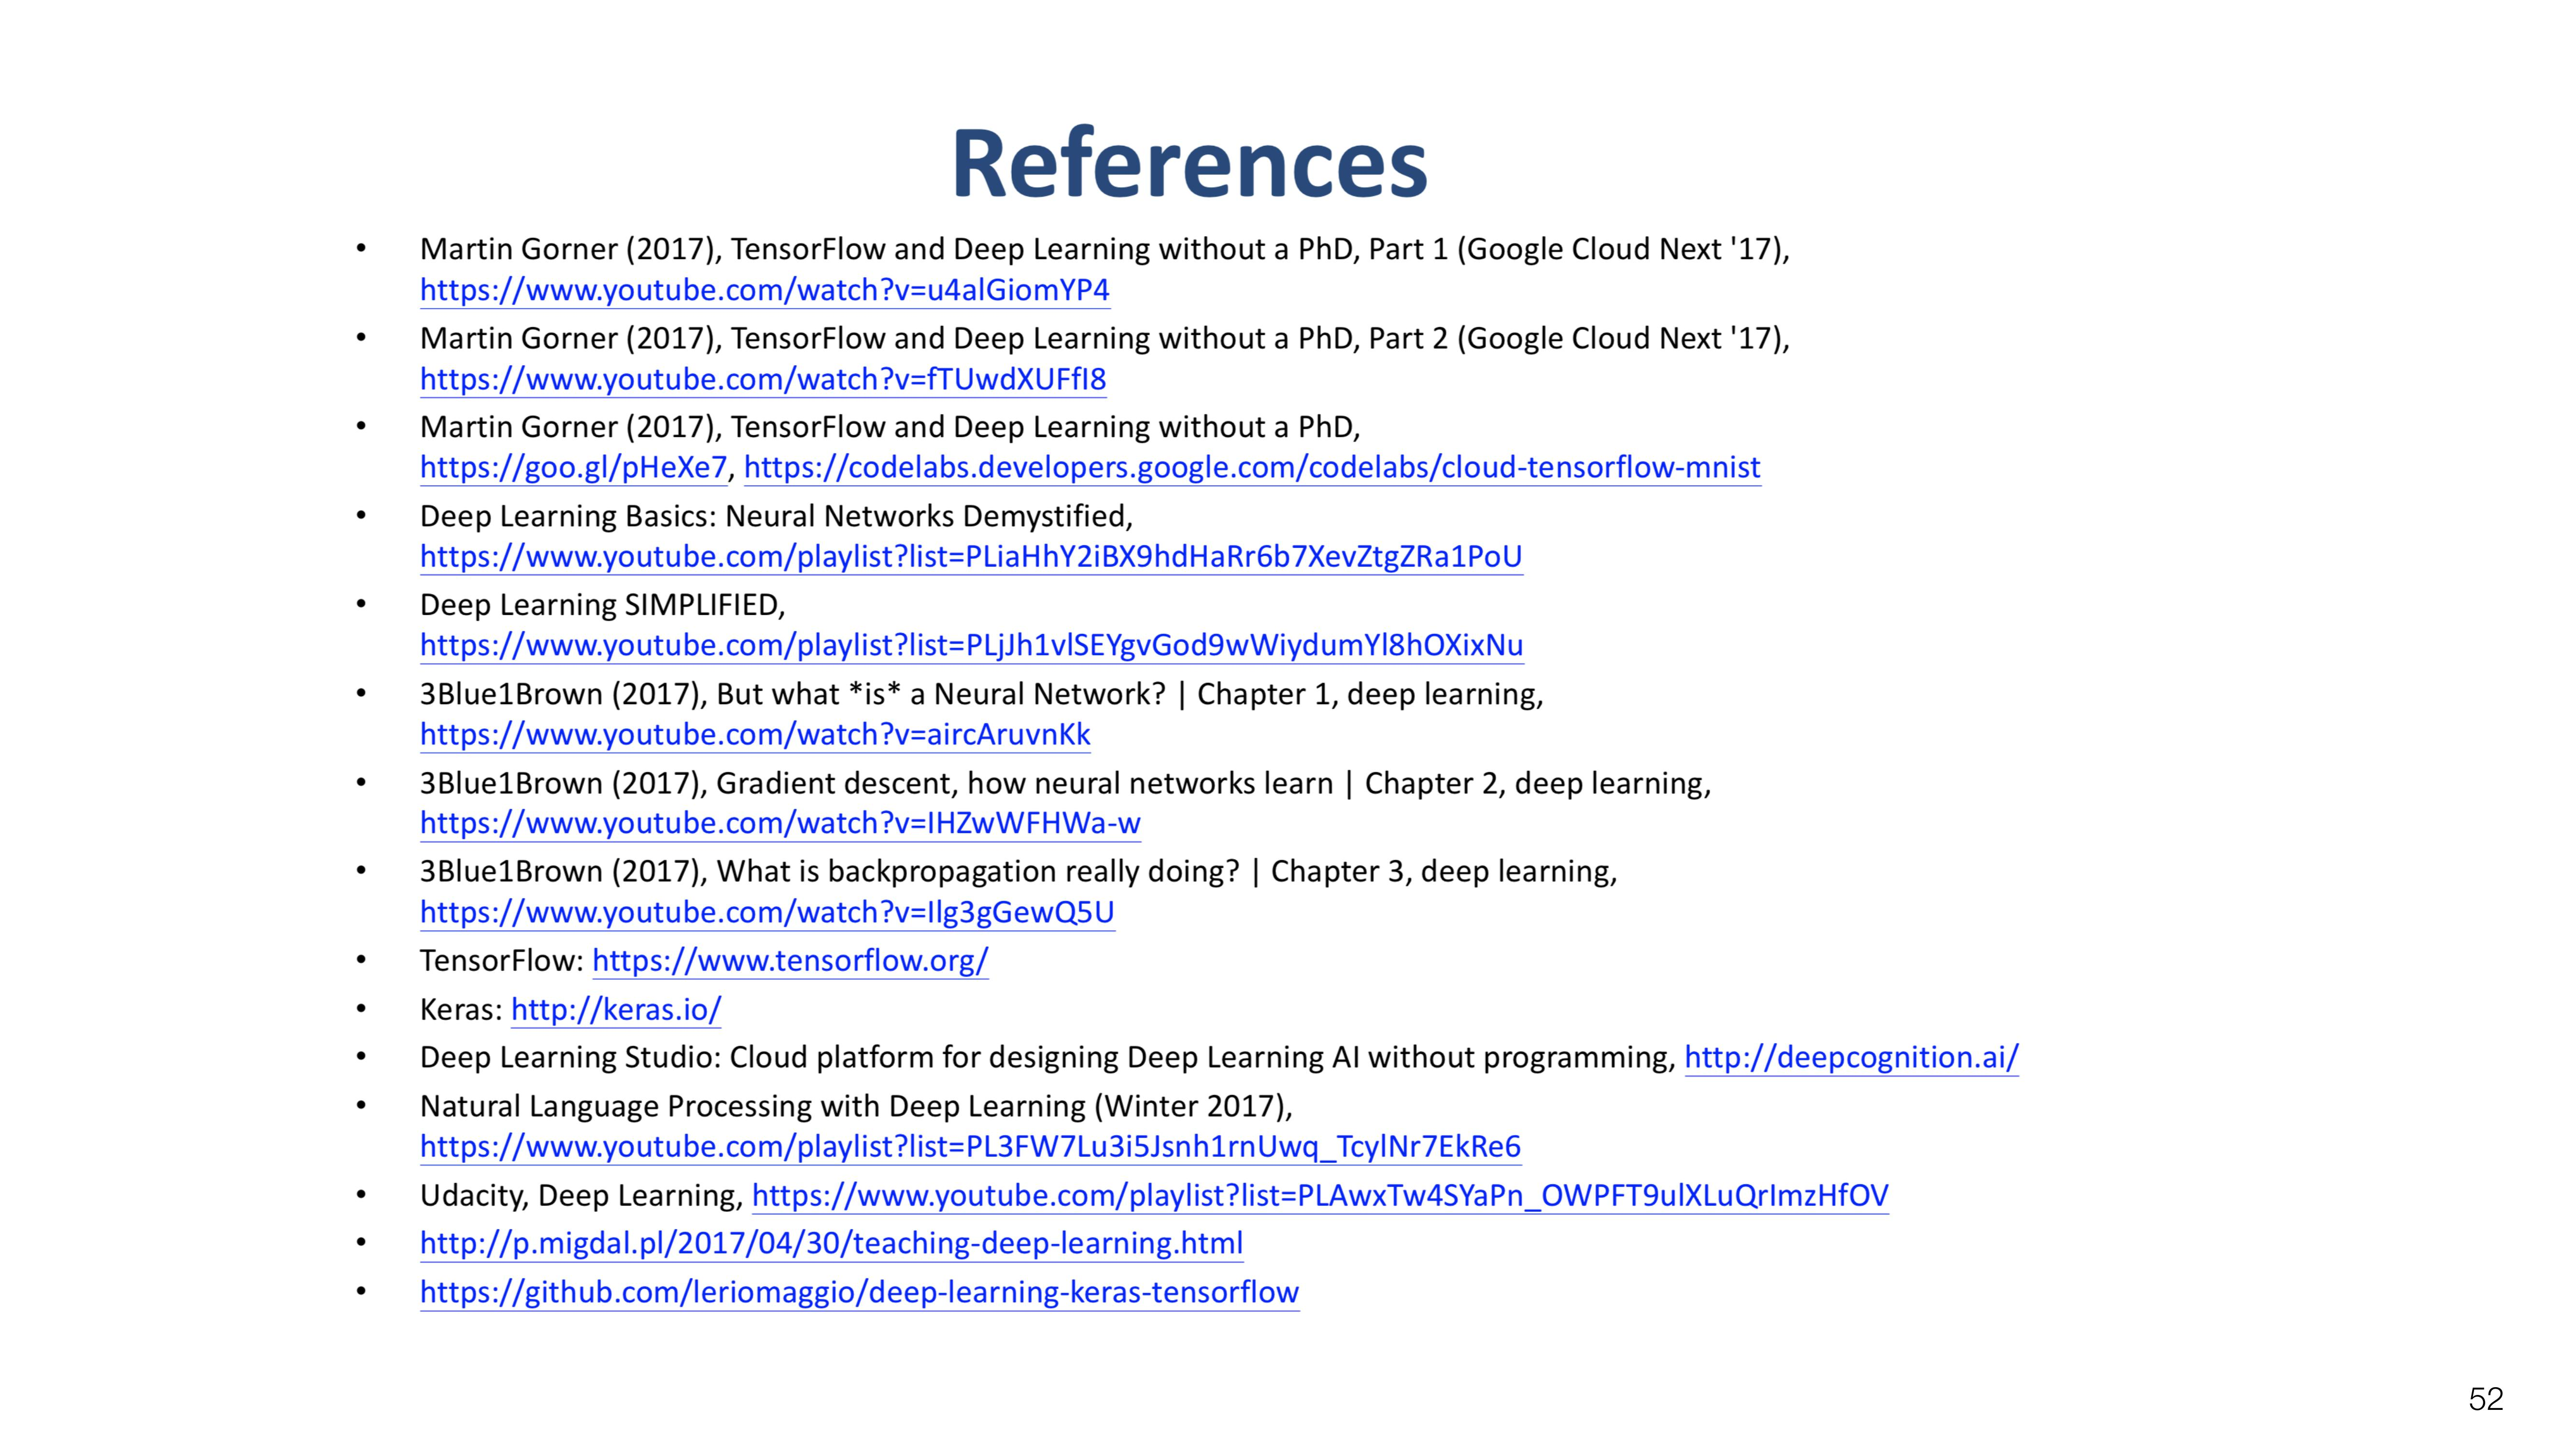Title: (939, 110, 1438, 226)
